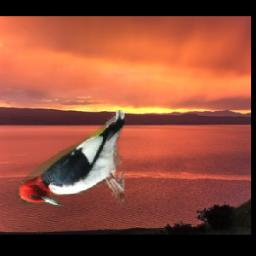Woodpecker: (17, 111, 125, 207)
